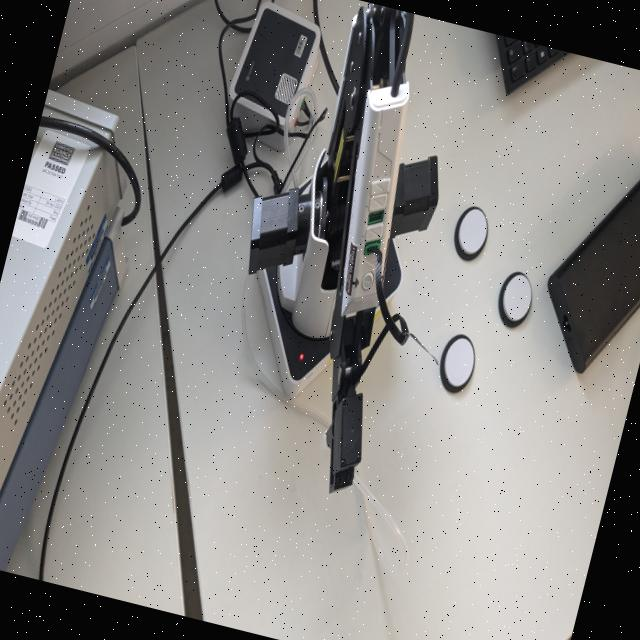Robot-end-effector-HF8z: (308, 384, 378, 503)
